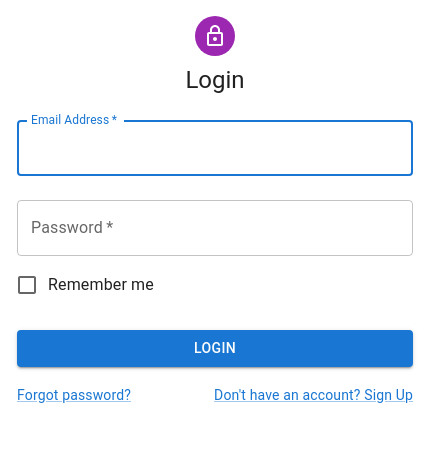
Test: should email and password inputs be required
// submit form
Click the button "Login": click(215, 348) [17,330,413,366]
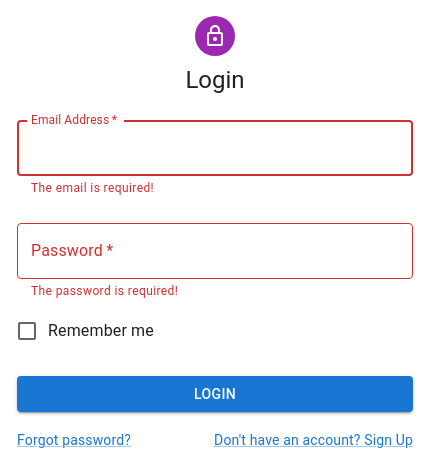
Expected: the text "The email is required!" is shown, [31,181,154,195]
Expected: the text "The password is required!" is shown, [31,284,178,298]
